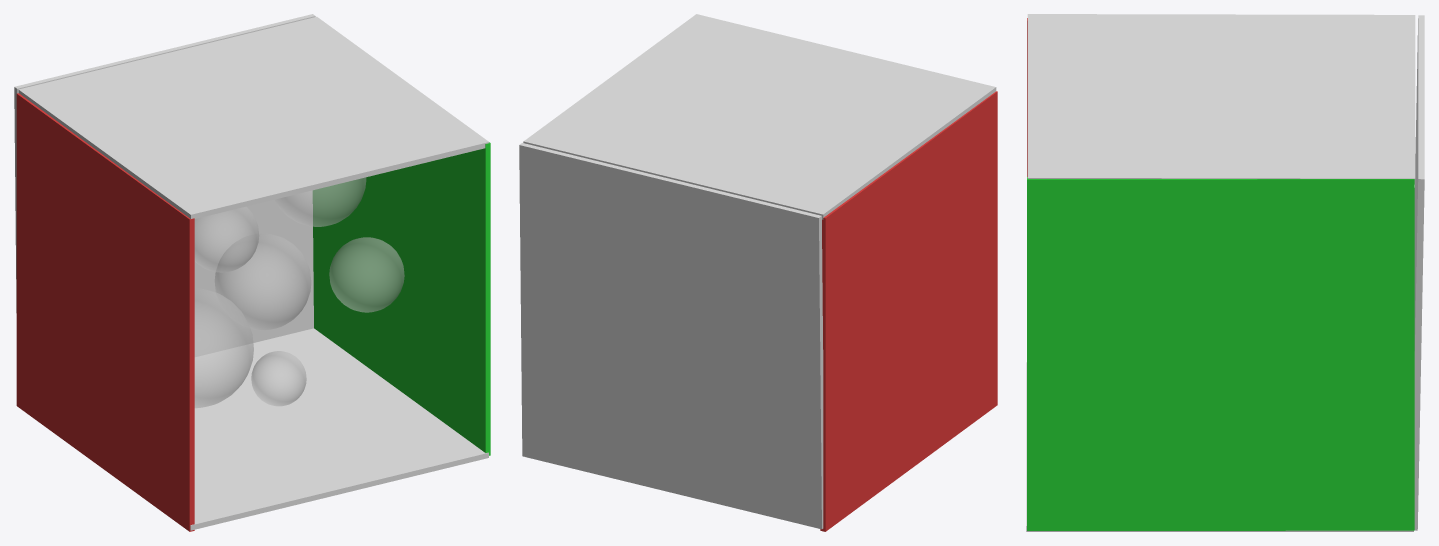
The model's file is glassSpheres.gltf.
The picture shows the model from 3 angles, left to right: view 1: azimuth 30°, elevation 25°; view 2: azimuth 150°, elevation 25°; view 3: azimuth 270°, elevation 25°; orthographic projection. The views are drawn at different scales.
Parts seen in each view (by area): view 1: Cube.005, Cube.003, Cube.004, Cube, Cube.002, Sphere.005, Sphere.004, Sphere.003, Sphere.002, Sphere.001, Sphere.006; view 2: Cube.002, Cube.005, Cube.003; view 3: Cube.004, Cube.003, Cube.002, Cube.
Boxes of the visible parts, bbox=[...] form: Cube.005: bbox=[16, 93, 194, 531]; Cube.003: bbox=[18, 16, 489, 218]; Cube.004: bbox=[313, 142, 490, 455]; Cube: bbox=[190, 328, 488, 530]; Cube.002: bbox=[14, 14, 315, 356]; Sphere.005: bbox=[214, 233, 311, 330]; Sphere.004: bbox=[194, 288, 253, 408]; Sphere.003: bbox=[329, 237, 404, 312]; Sphere.002: bbox=[194, 207, 259, 272]; Sphere.001: bbox=[275, 177, 366, 226]; Sphere.006: bbox=[251, 351, 306, 406]; Cube.002: bbox=[519, 143, 823, 529]; Cube.005: bbox=[820, 91, 997, 531]; Cube.003: bbox=[523, 14, 996, 219]; Cube.004: bbox=[1027, 177, 1414, 530]; Cube.003: bbox=[1027, 14, 1415, 184]; Cube.002: bbox=[1414, 15, 1424, 530]; Cube: bbox=[1026, 362, 1413, 531].
Size of the model in its own units: 10.14 by 10.17 by 10.31.
